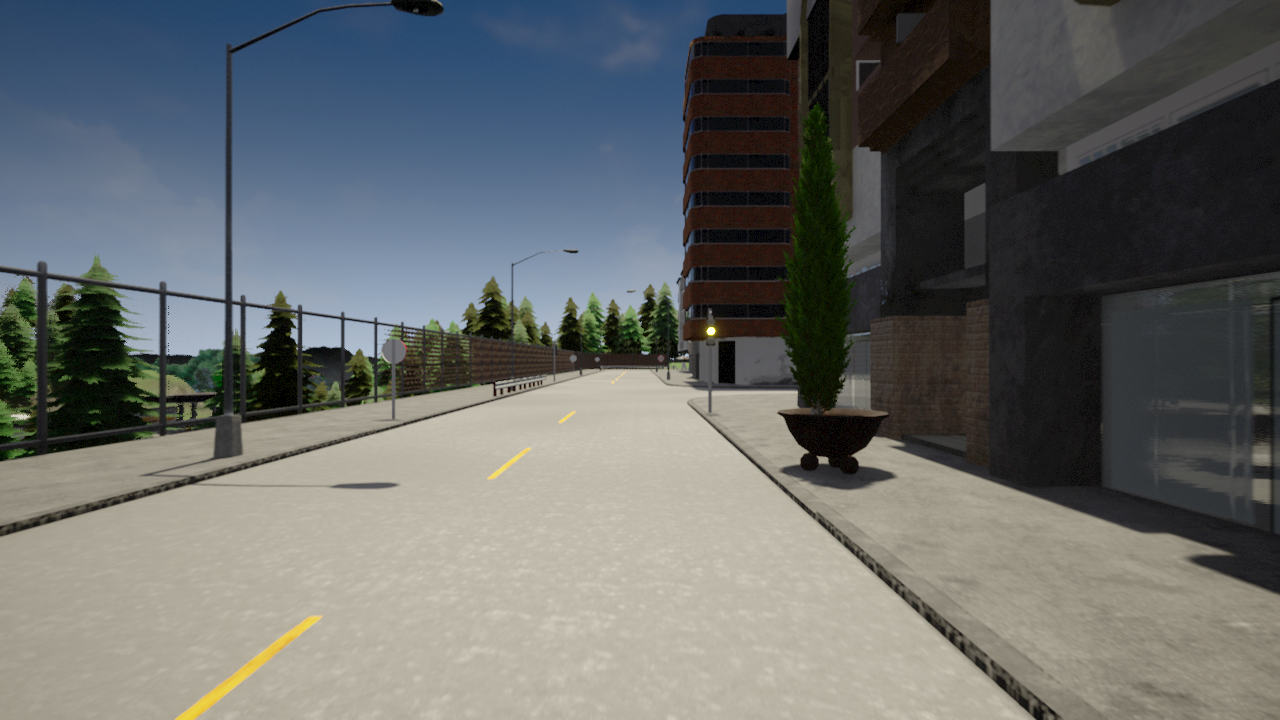yellow: (705, 315, 717, 347)
